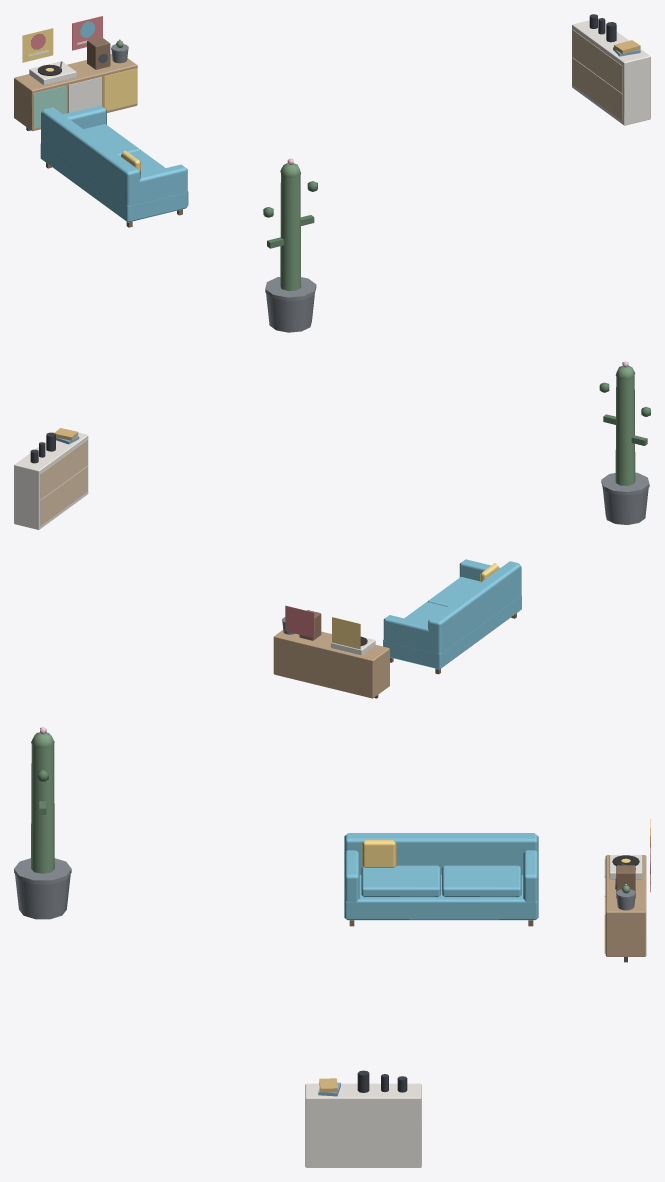
Rendered from einrichtung_younes_ecke_buehne.glb.
3 renders of one model, top to bottom at view 1: azimuth 30°, elevation 25°; view 2: azimuth 150°, elevation 25°; view 3: azimuth 270°, elevation 25°, orthographic. The views are drawn at different scales.
Parts seen in each view (by area): view 1: einrichtung_younes_ecke_buehne; view 2: einrichtung_younes_ecke_buehne; view 3: einrichtung_younes_ecke_buehne.
Part boxes in pixels (left/top/right/bottom): einrichtung_younes_ecke_buehne: left=14, top=14, right=650, bottom=332; einrichtung_younes_ecke_buehne: left=14, top=361, right=650, bottom=698; einrichtung_younes_ecke_buehne: left=14, top=727, right=650, bottom=1167.
Size of the model in its own units: 6.66 by 2.07 by 6.55.
